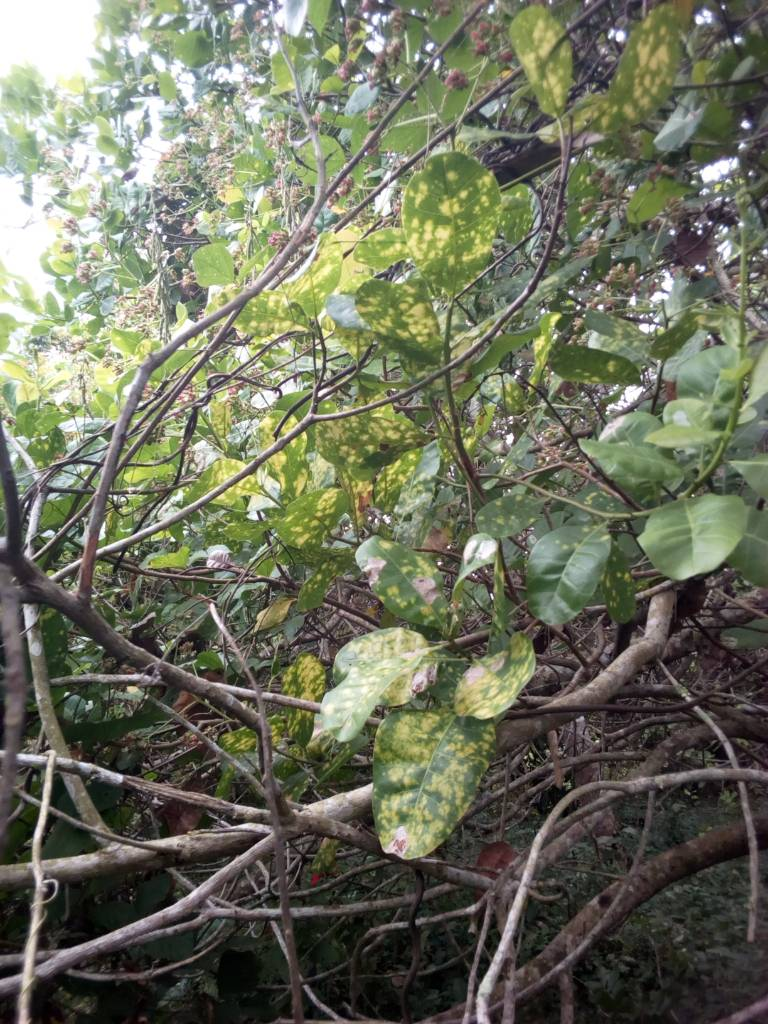Carence minérale: (357, 708, 502, 863), (393, 149, 518, 290), (308, 621, 440, 753), (341, 521, 479, 642), (488, 7, 611, 123), (605, 7, 687, 145), (452, 627, 542, 735), (258, 480, 343, 575)
